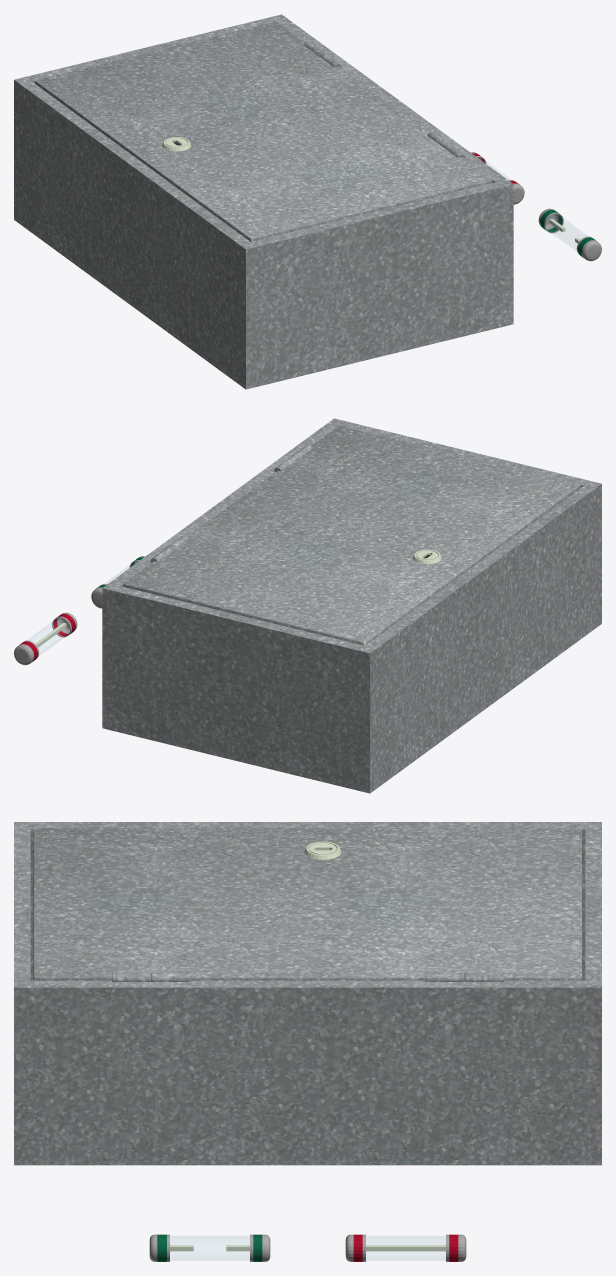
File: PowerCabinet.fbx
The picture shows the model from 3 angles, top to bottom: view 1: azimuth 30°, elevation 25°; view 2: azimuth 150°, elevation 25°; view 3: azimuth 270°, elevation 25°; orthographic projection. The views are drawn at different scales.
Visible parts, largest first — view 1: PowerCabinet, PowerDoor, FuseNo; view 2: PowerCabinet, PowerDoor, Fuse; view 3: PowerCabinet, PowerDoor, Fuse, FuseNo.
Part boxes in pixels (x1=…): PowerCabinet: x1=14, y1=14, x2=513, y2=389; PowerDoor: x1=35, y1=22, x2=492, y2=241; FuseNo: x1=538, y1=208, x2=601, y2=261; PowerCabinet: x1=102, y1=418, x2=601, y2=793; PowerDoor: x1=123, y1=426, x2=580, y2=645; Fuse: x1=14, y1=612, x2=77, y2=665; PowerCabinet: x1=14, y1=822, x2=601, y2=1165; PowerDoor: x1=33, y1=828, x2=582, y2=981; Fuse: x1=345, y1=1234, x2=466, y2=1261; FuseNo: x1=149, y1=1234, x2=270, y2=1261.
Size of the model in its own units: 307 by 110 by 300.
Materials: 9 (1 with a texture image).
